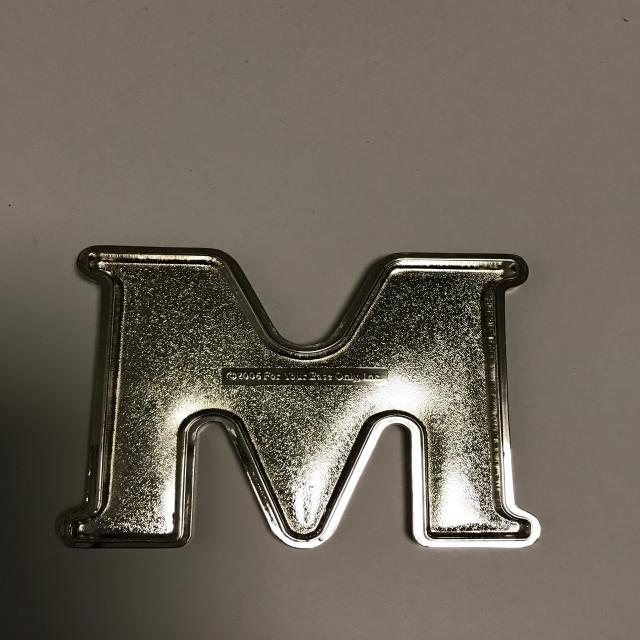metal: (57, 243, 541, 551)
